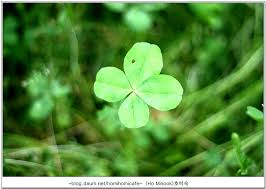4-clover: (95, 41, 184, 127)
